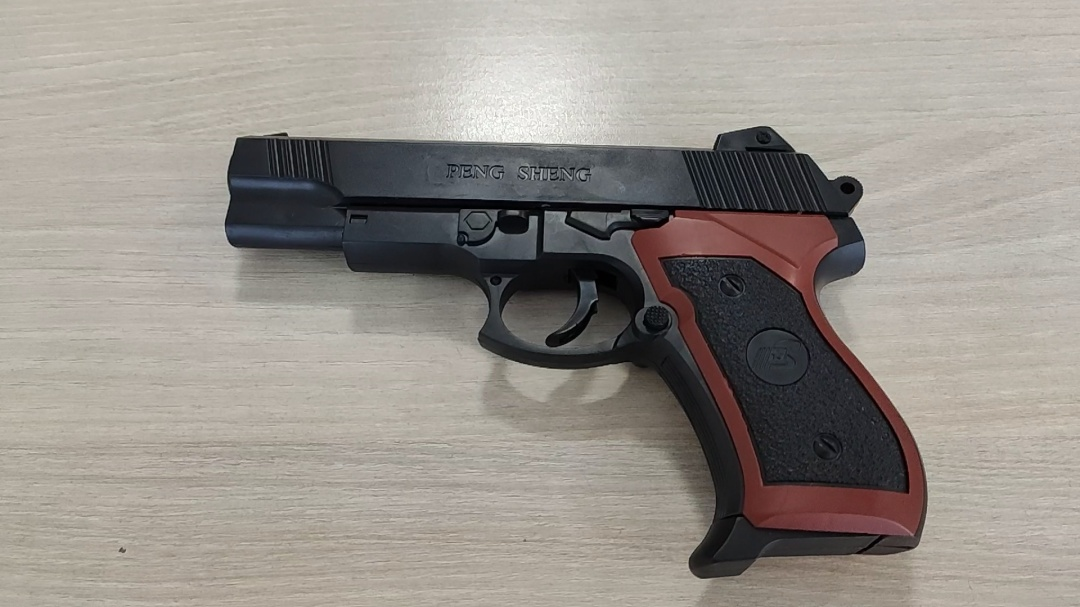gun: (392, 233, 481, 300)
